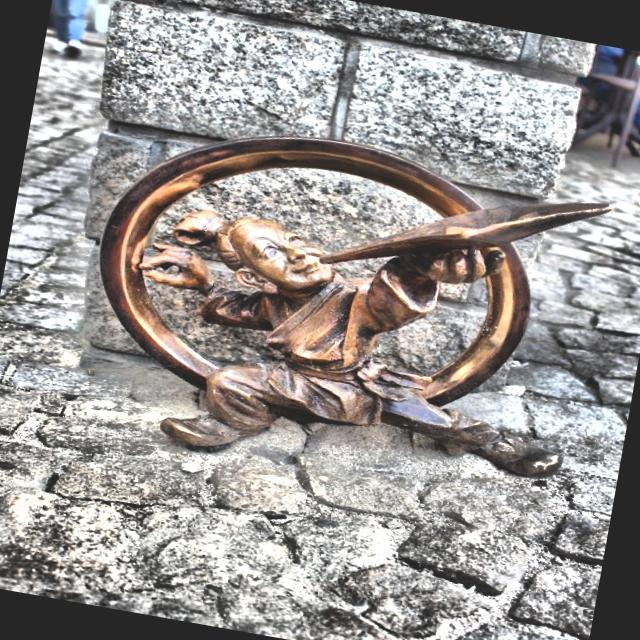TianTian: (100, 137, 610, 475)
